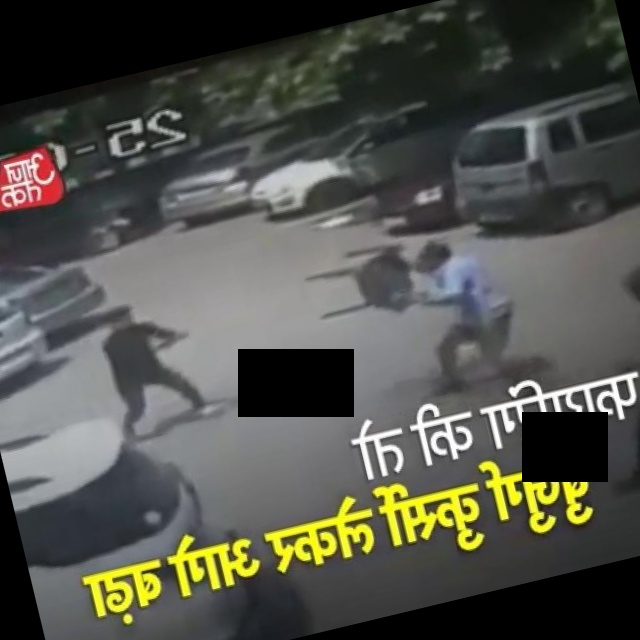gun: (168, 317, 200, 347)
